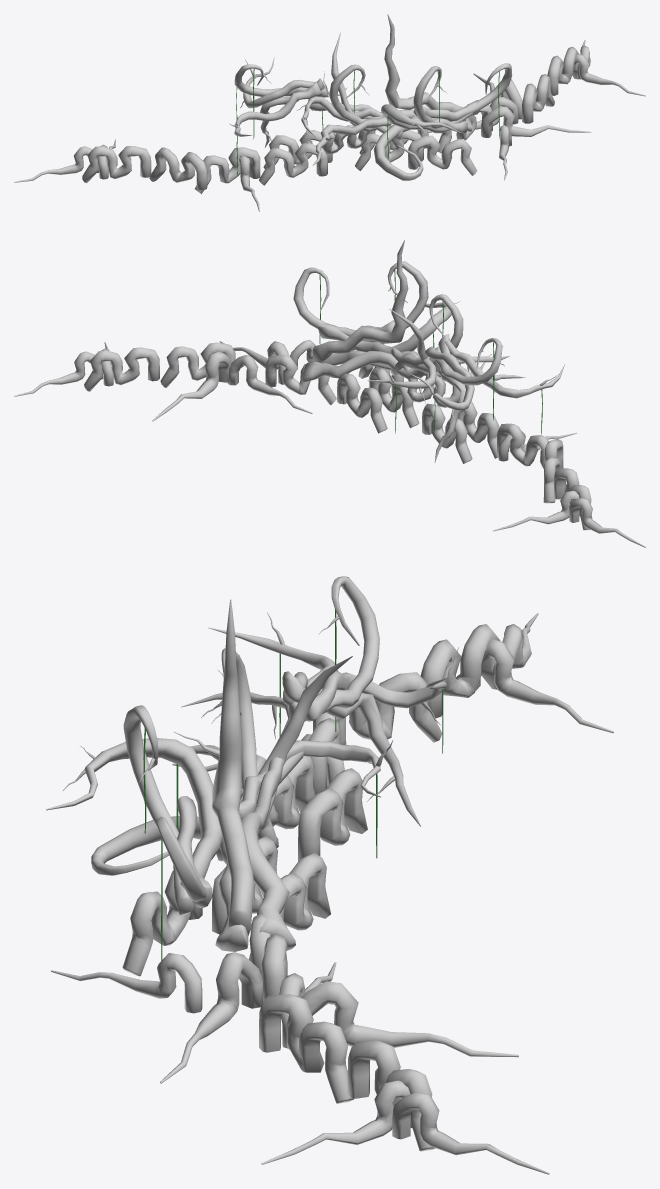
Rendered from Plants_Mutant_V05.fbx.
The picture shows the model from 3 angles, top to bottom: view 1: azimuth 30°, elevation 25°; view 2: azimuth 150°, elevation 25°; view 3: azimuth 270°, elevation 25°; orthographic projection. The views are drawn at different scales.
Parts seen in each view (by area): view 1: Plants, Lianas; view 2: Plants, Lianas; view 3: Plants, Lianas.
Part boxes in pixels (x1,y1,x2,y2): Plants: (14,14,645,211); Lianas: (236,69,499,175); Plants: (14,240,645,547); Lianas: (319,270,542,434); Plants: (46,576,613,1174); Lianas: (143,609,443,960).
Size of the model in its own units: 2796 by 742 by 1198.
